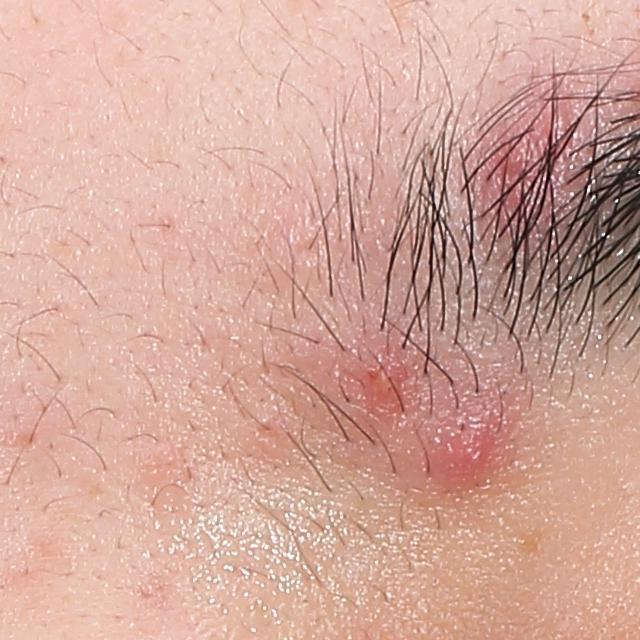comedo: (577, 9, 596, 27)
papule: (430, 403, 510, 478), (501, 132, 548, 190), (353, 352, 400, 404)
